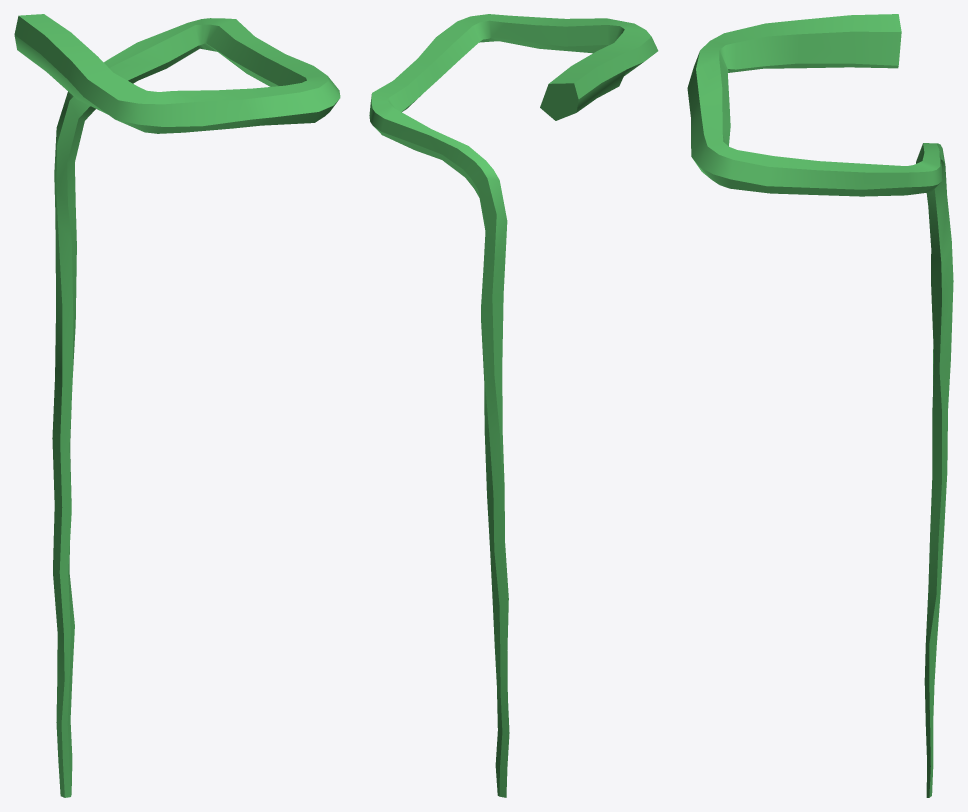
The model's file is roots_solo_D_D.fbx.
3 views of the same model, side by side, from view 1: azimuth 30°, elevation 25°; view 2: azimuth 150°, elevation 25°; view 3: azimuth 270°, elevation 25° (orthographic). The views are drawn at different scales.
Visible parts, largest first — view 1: roots_solo_D_D; view 2: roots_solo_D_D; view 3: roots_solo_D_D.
Part boxes in pixels (box(x1,y1,x2,y2)): roots_solo_D_D: box(14, 14, 340, 797); roots_solo_D_D: box(369, 14, 658, 797); roots_solo_D_D: box(687, 14, 953, 797).
Bounding box in the file's own units: 91.46 × 293 × 93.94.
